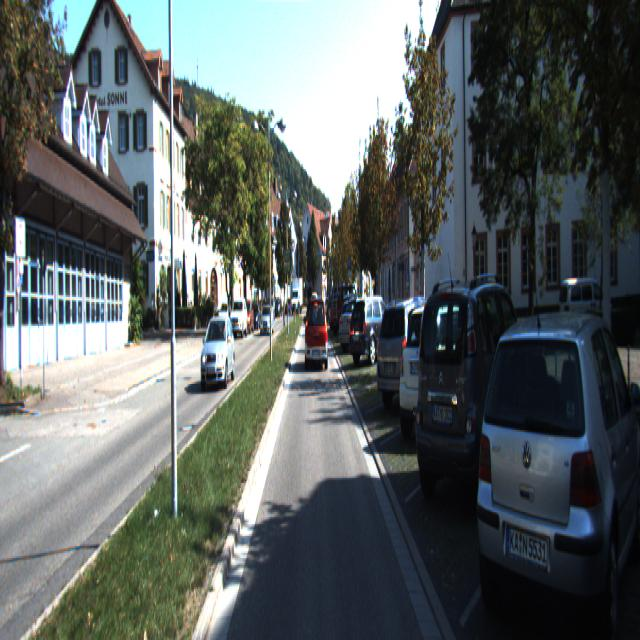Car: (463, 306, 640, 638), (411, 280, 542, 532), (396, 301, 486, 458), (373, 300, 455, 416), (348, 297, 401, 369), (200, 316, 237, 391), (338, 298, 379, 352), (306, 301, 328, 373), (330, 287, 362, 336), (230, 301, 248, 341), (240, 300, 255, 334), (260, 306, 274, 336), (218, 304, 230, 334)
